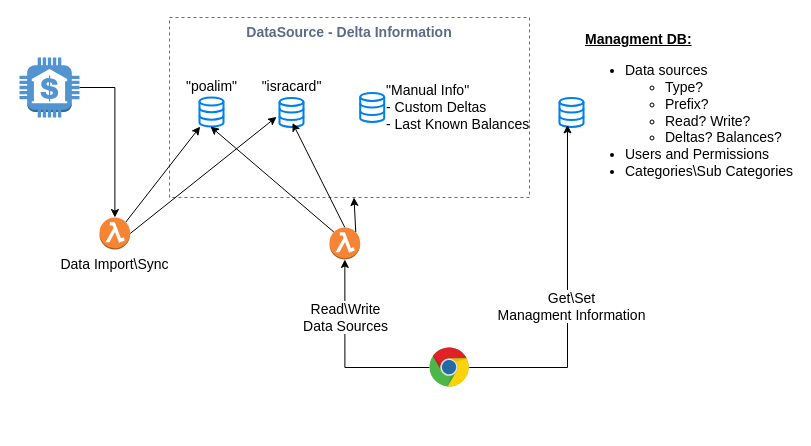
Some shapes in this 811 by 446 pixel diagram are drawn without their labels. The shapes that lost their labels are listed below. From the top down, each one's centre as x and y in pixels, then its label:
pixel 49 87: Bank Data
pixel 344 243: Format Adapter
pixel 448 367: Custom UI? Notebook of nodejs with d3.js?
